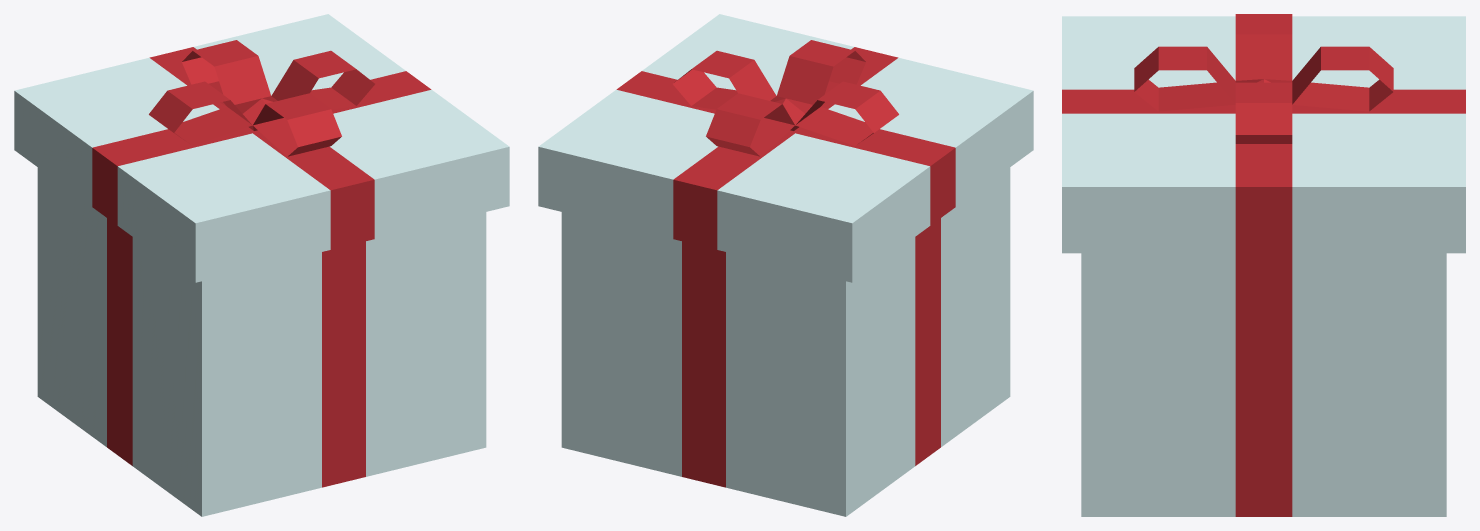
The model's file is props_present-box.fbx.
3 views of the same model, side by side, from view 1: azimuth 30°, elevation 25°; view 2: azimuth 150°, elevation 25°; view 3: azimuth 270°, elevation 25° (orthographic). The views are drawn at different scales.
Visible parts, largest first — view 1: present_box_base, present_box_top; view 2: present_box_base, present_box_top; view 3: present_box_base, present_box_top.
Part boxes in pixels (left/top/right/bottom): present_box_base: left=37, top=167, right=486, bottom=516; present_box_top: left=14, top=14, right=509, bottom=282; present_box_base: left=561, top=167, right=1010, bottom=516; present_box_top: left=538, top=14, right=1033, bottom=282; present_box_base: left=1081, top=253, right=1446, bottom=516; present_box_top: left=1062, top=14, right=1465, bottom=253.
Bounding box in the file's own units: 192 × 200 × 192.
